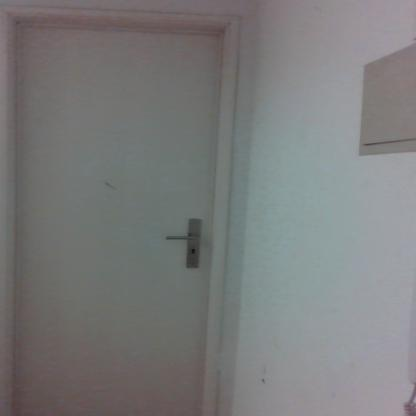door: (11, 30, 214, 416)
lever: (166, 230, 202, 242)
